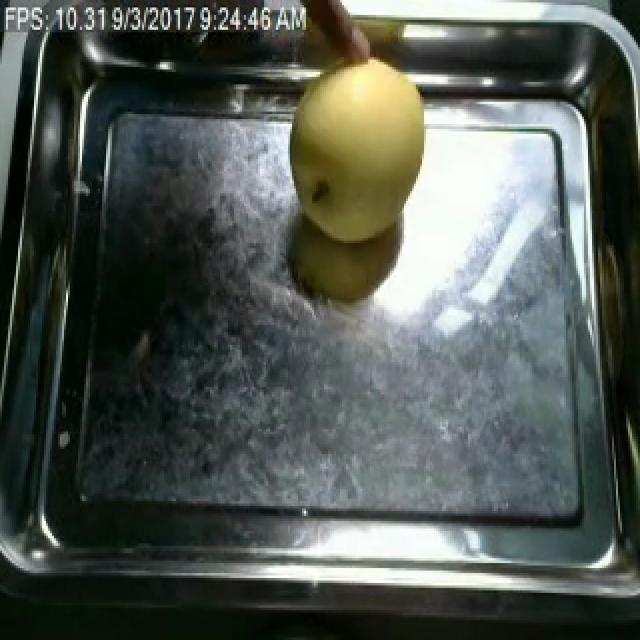Fruit: (270, 45, 442, 253)
